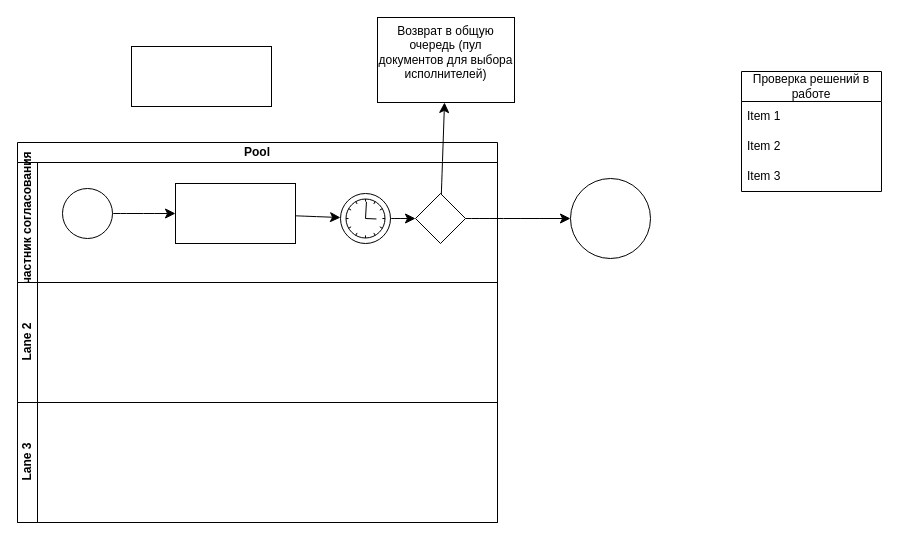
The diagram is 899 pixels wide and 540 high, and some of its shapes have lost their labels. The shapes that lost their labels are listed below. From the top down, each one's centre as x and y in pixels, then its label:
(x=201, y=76): Решение (Документ)
(x=235, y=213): Согласование
(x=440, y=218): Согласовал?
